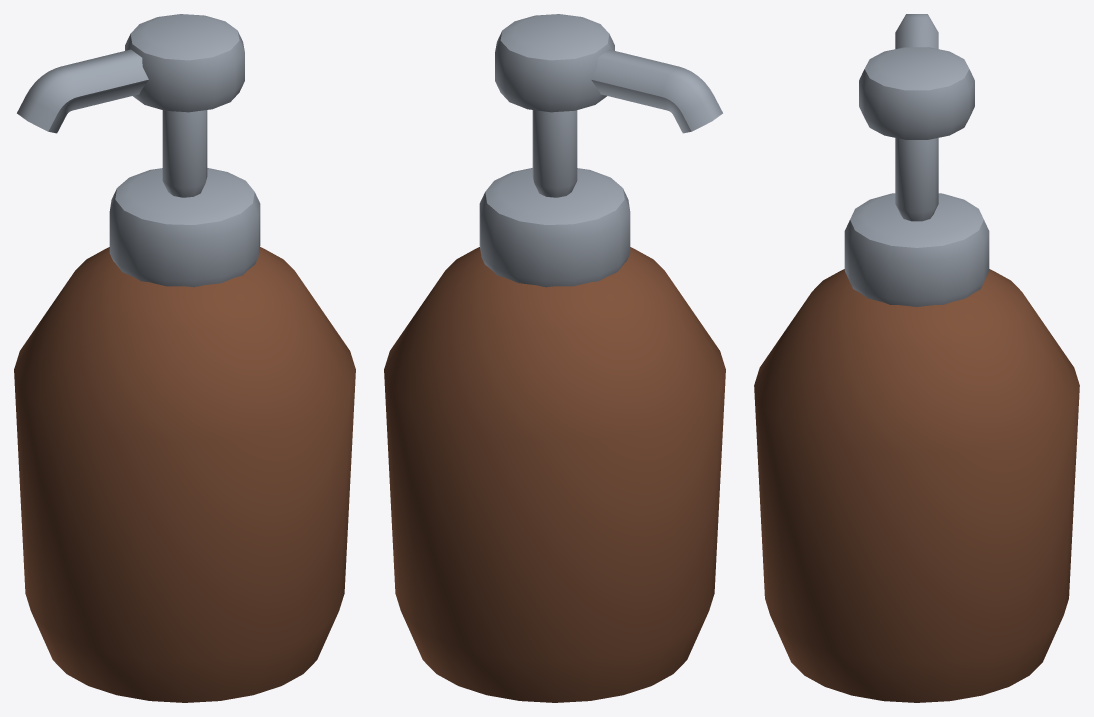
File: frasco_saboneteira_bomba_marrom.glb
3 views of the same model, side by side, from view 1: azimuth 30°, elevation 25°; view 2: azimuth 150°, elevation 25°; view 3: azimuth 270°, elevation 25° (orthographic). The views are drawn at different scales.
Visible parts, largest first — view 1: frasco_saboneteira_bomba_marrom; view 2: frasco_saboneteira_bomba_marrom; view 3: frasco_saboneteira_bomba_marrom.
Part boxes in pixels (left/top/right/bottom): frasco_saboneteira_bomba_marrom: left=14, top=14, right=355, bottom=702; frasco_saboneteira_bomba_marrom: left=384, top=14, right=725, bottom=702; frasco_saboneteira_bomba_marrom: left=754, top=14, right=1079, bottom=702.
Bounding box in the file's own units: 0.0944 × 0.178 × 0.09.
1 material, 1 textured.
